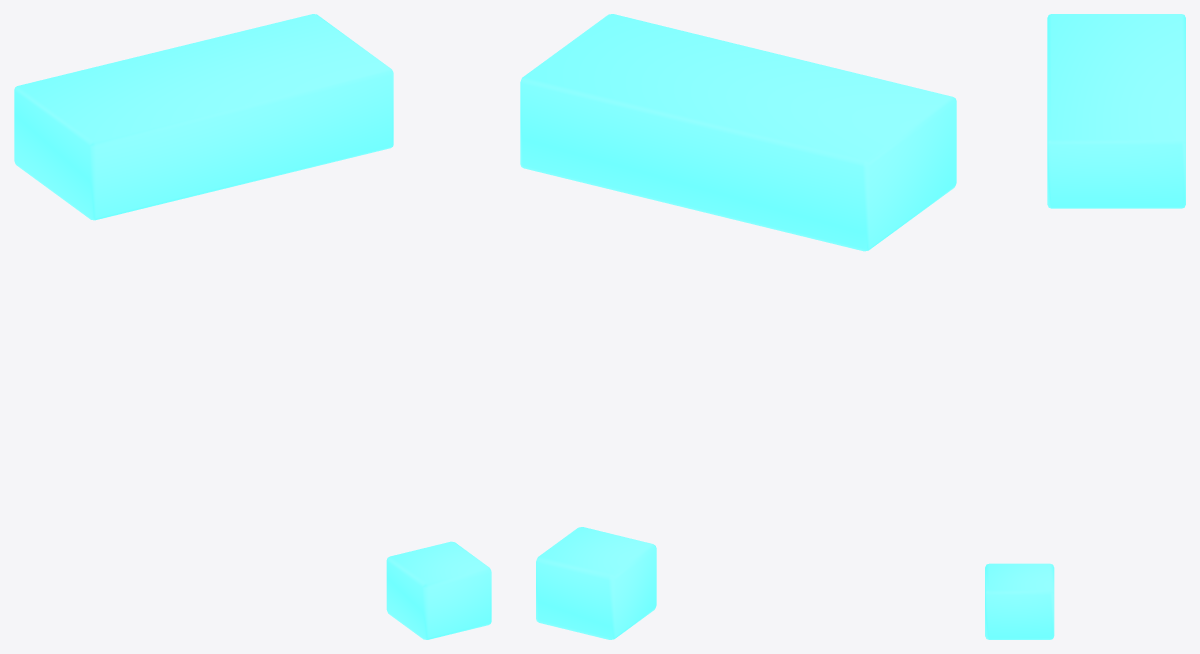
The model's file is Neon_Patrulla_SirenaAzul.fbx.
3 renders of one model, left to right at view 1: azimuth 30°, elevation 25°; view 2: azimuth 150°, elevation 25°; view 3: azimuth 270°, elevation 25°, orthographic. The views are drawn at different scales.
Visible parts, largest first — view 1: Patrulla_SirenaAzul; view 2: Patrulla_SirenaAzul; view 3: Patrulla_SirenaAzul.
Boxes of the visible parts, x1,y1,x2,y2 form: Patrulla_SirenaAzul: [14, 14, 491, 639]; Patrulla_SirenaAzul: [520, 14, 956, 639]; Patrulla_SirenaAzul: [985, 14, 1185, 639].
Bounding box in the file's own units: 2.65 × 3.78 × 1.45.
